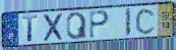C: (134, 7, 157, 36)
I: (124, 7, 132, 38)
P: (88, 9, 111, 39)
Q: (66, 11, 88, 41)
T: (21, 14, 40, 43)
X: (42, 12, 65, 43)
